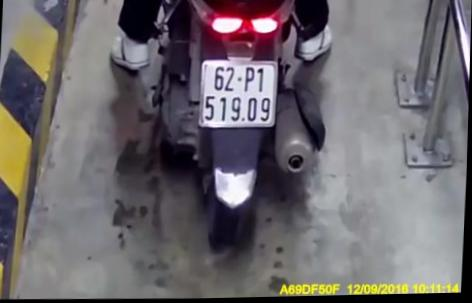LP: (197, 58, 281, 132)
